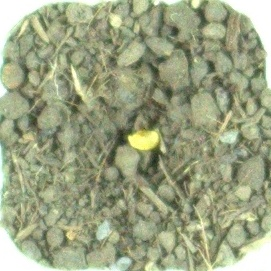chilli seed: (126, 127, 160, 152)
